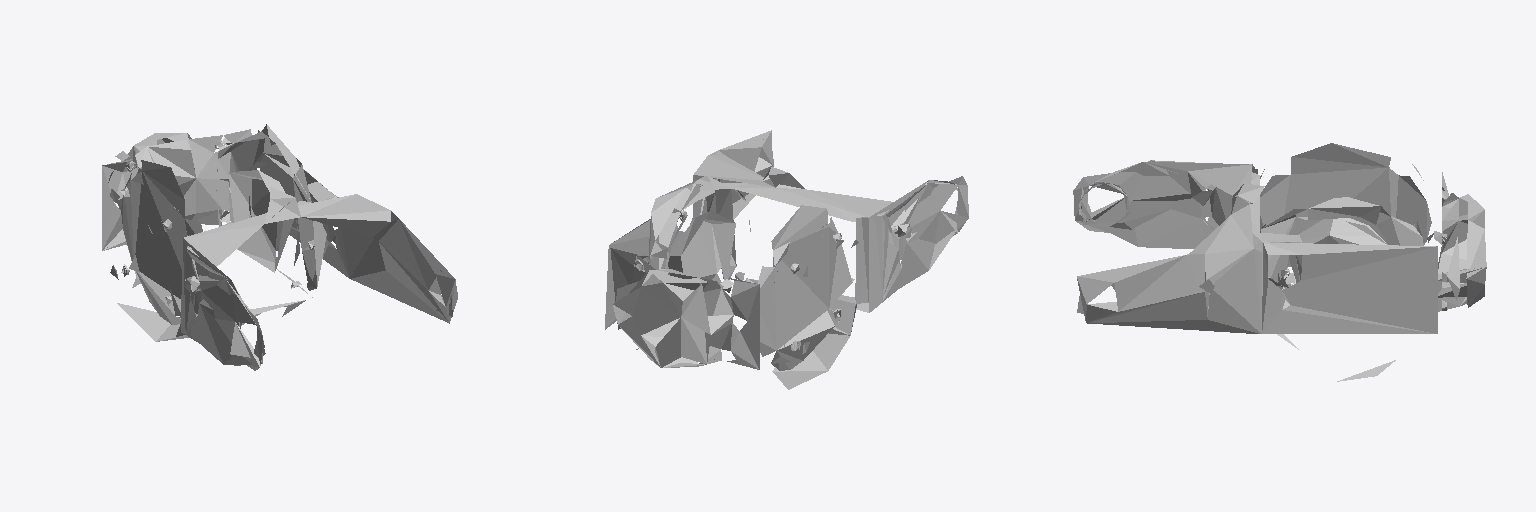
3 views of the same model, side by side, from view 1: azimuth 30°, elevation 25°; view 2: azimuth 150°, elevation 25°; view 3: azimuth 270°, elevation 25° (orthographic).
Parts seen in each view (by area): view 1: link5_1; view 2: link5_1; view 3: link5_1.
Boxes of the visible parts, x1=… form: link5_1: x1=102, y1=124, x2=457, y2=370; link5_1: x1=605, y1=130, x2=968, y2=389; link5_1: x1=1073, y1=143, x2=1486, y2=381.
Size of the model in its own units: 78.87 by 58.78 by 131.